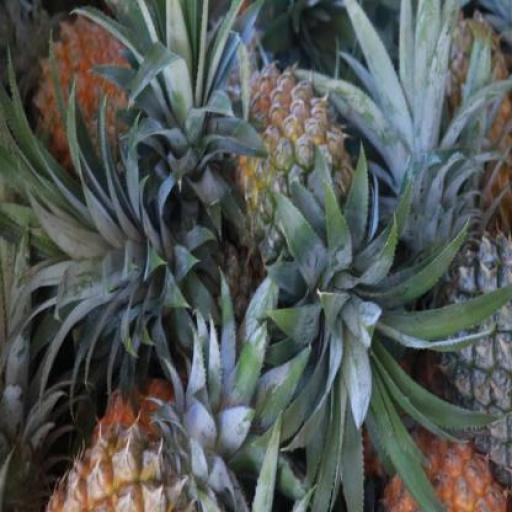------------------------------: (230, 52, 369, 263)
Pineapple - v8 v1: (46, 404, 228, 510)
